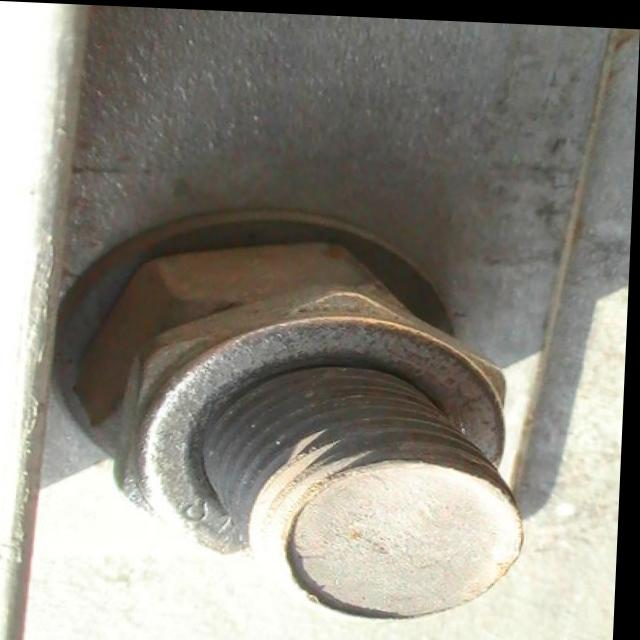Regular bolt: (114, 270, 522, 559)
